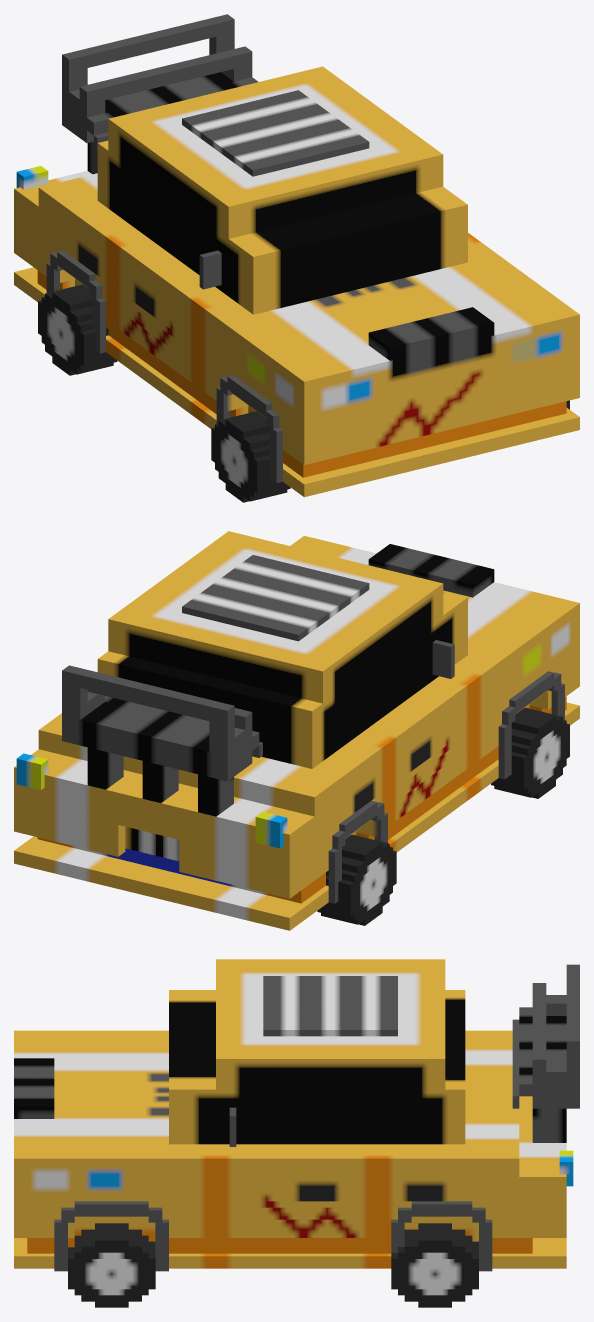
File: car_racing_2.fbx
3 renders of one model, top to bottom at view 1: azimuth 30°, elevation 25°; view 2: azimuth 150°, elevation 25°; view 3: azimuth 270°, elevation 25°, orthographic. The views are drawn at different scales.
Visible parts, largest first — view 1: body, back_right_wheel, back_left_wheel; view 2: body, back_right_wheel, back_left_wheel; view 3: body, front_right_wheel, front_left_wheel.
Boxes of the visible parts, bbox=[...] form: body: bbox=[14, 14, 579, 497]; back_right_wheel: bbox=[211, 411, 290, 502]; back_left_wheel: bbox=[38, 284, 117, 375]; body: bbox=[14, 531, 579, 930]; back_right_wheel: bbox=[491, 708, 569, 798]; back_left_wheel: bbox=[317, 835, 396, 925]; body: bbox=[14, 959, 579, 1271]; front_right_wheel: bbox=[68, 1223, 155, 1307]; front_left_wheel: bbox=[391, 1223, 478, 1307].
Bounding box in the file's own units: 51 × 38 × 84.
1 material, 1 textured.
